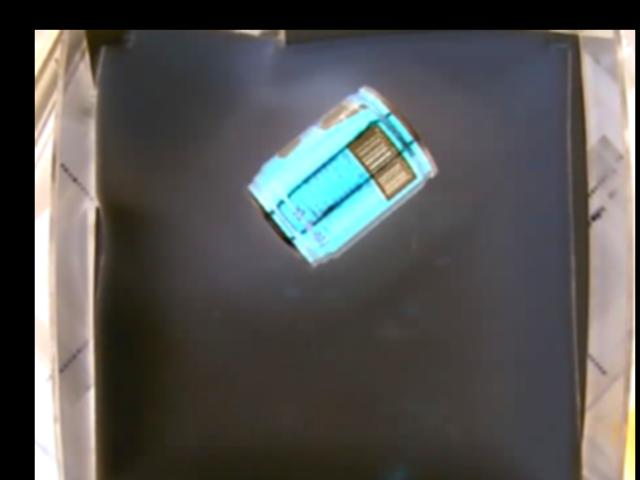Bottle: (246, 83, 434, 267)
